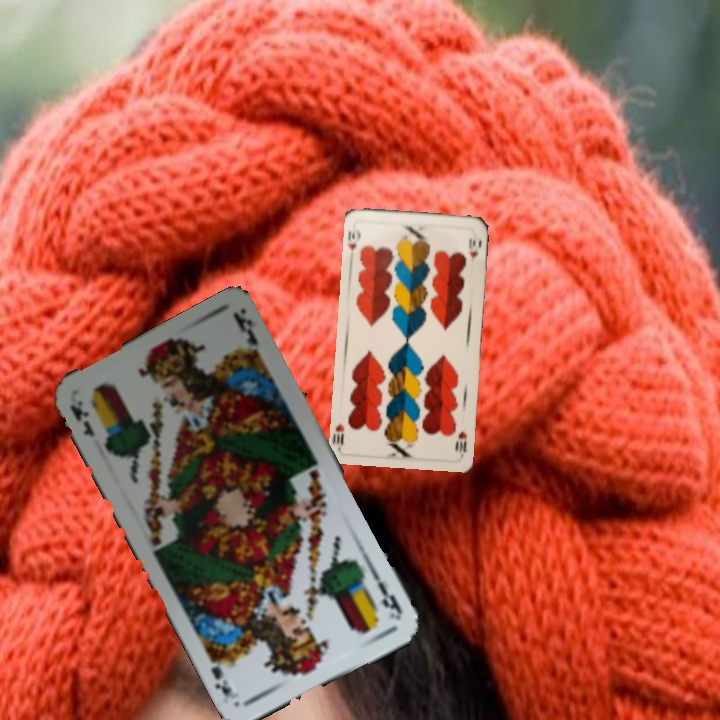EK: (367, 566, 405, 622), (65, 396, 97, 440)
H10: (344, 225, 363, 261), (451, 427, 469, 455)
